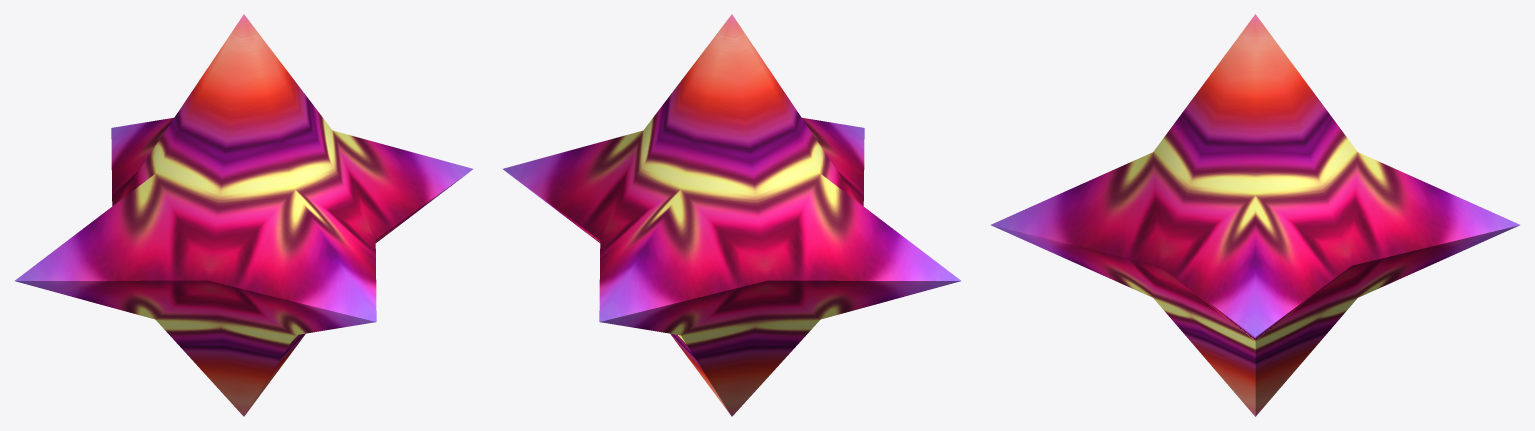
Rendered from misc-05.fbx.
3 views of the same model, side by side, from view 1: azimuth 30°, elevation 25°; view 2: azimuth 150°, elevation 25°; view 3: azimuth 270°, elevation 25° (orthographic).
Parts seen in each view (by area): view 1: misc-05; view 2: misc-05; view 3: misc-05.
Boxes of the visible parts, left/top/right/bottom form: misc-05: left=15, top=14, right=472, bottom=416; misc-05: left=503, top=14, right=960, bottom=416; misc-05: left=991, top=14, right=1519, bottom=416.
Size of the model in its own units: 37.24 by 31.22 by 37.24.
